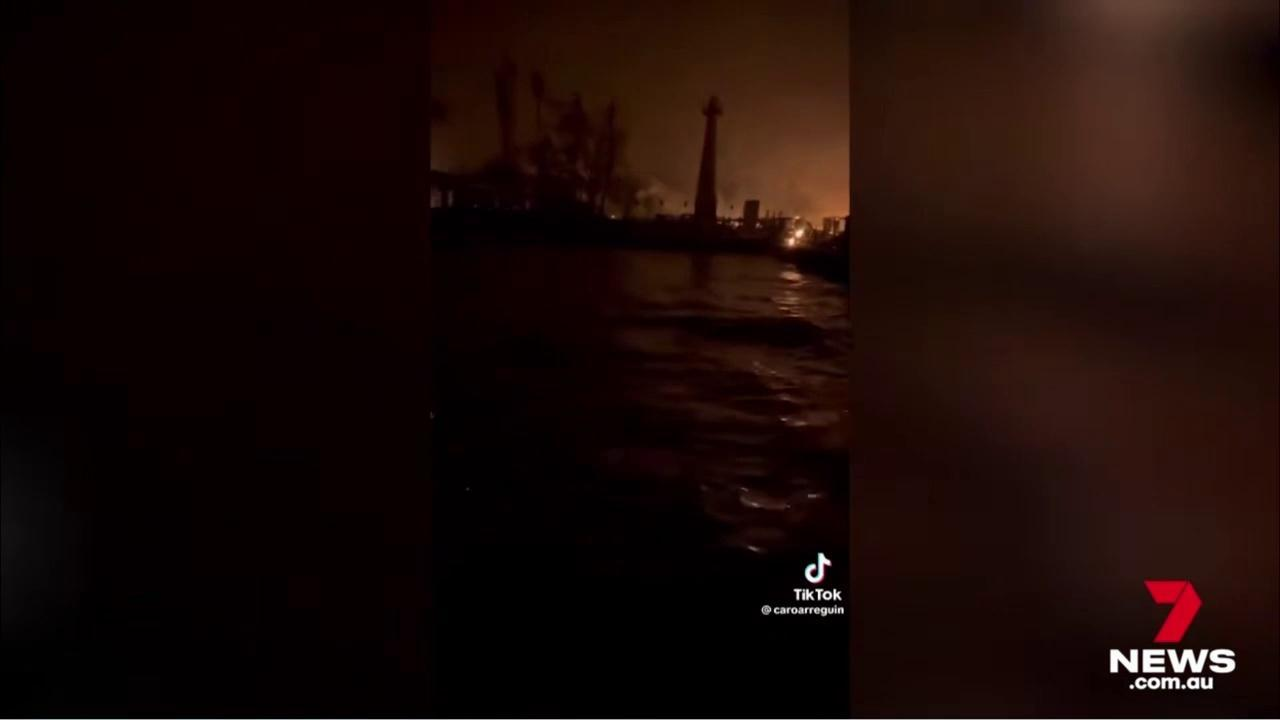fire: (785, 226, 806, 251)
smoke: (434, 1, 849, 222)
